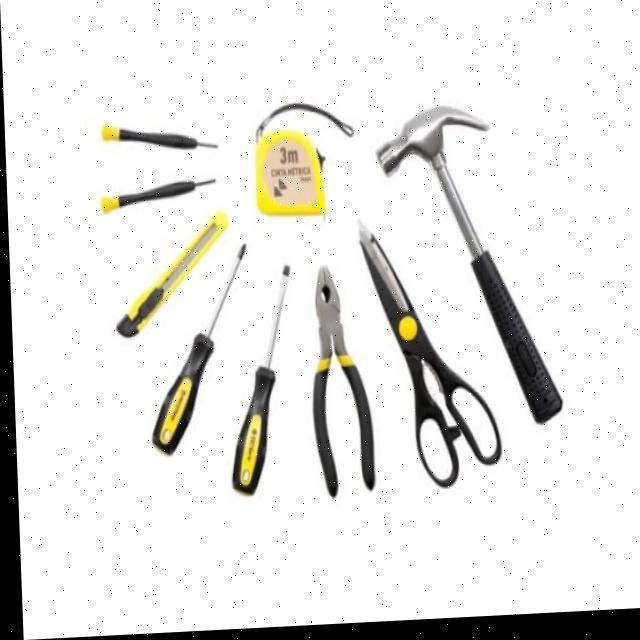Screwdriver: (149, 247, 243, 455), (229, 269, 287, 496)
